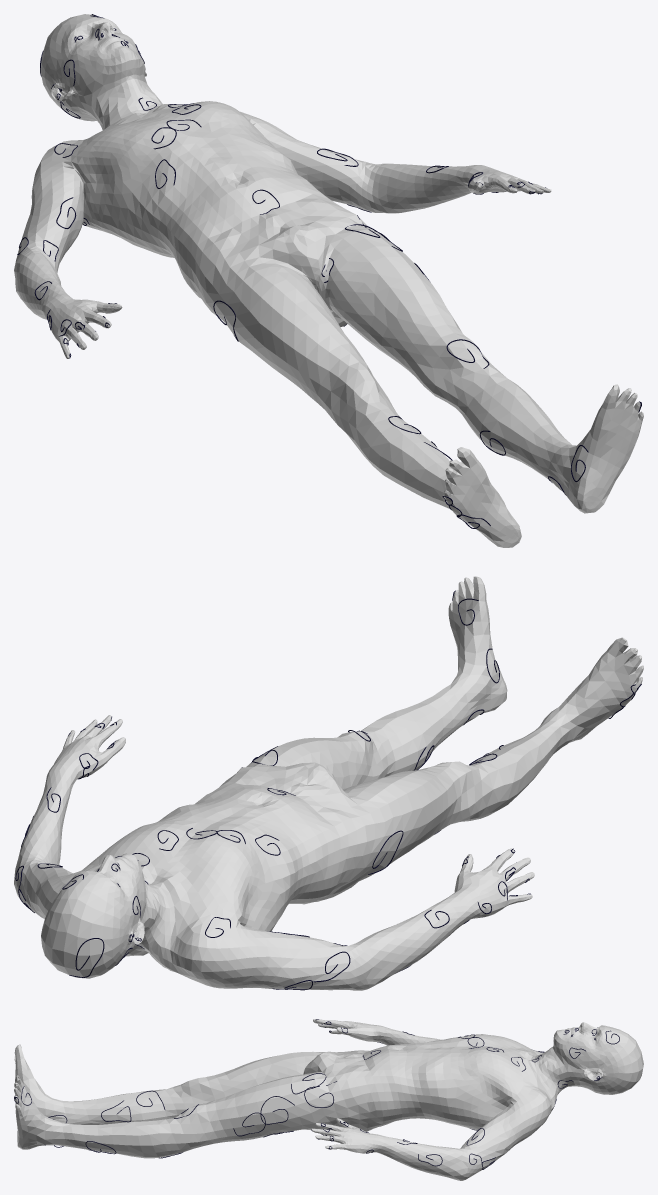
The model's file is body_spiral.glb.
The picture shows the model from 3 angles, top to bottom: view 1: azimuth 30°, elevation 25°; view 2: azimuth 150°, elevation 25°; view 3: azimuth 270°, elevation 25°; orthographic projection. The views are drawn at different scales.
Parts seen in each view (by area): view 1: imagetostl_mesh0; view 2: imagetostl_mesh0; view 3: imagetostl_mesh0.
Boxes of the visible parts, box(x1,y1,x2,y2) form: imagetostl_mesh0: box(14, 14, 643, 547); imagetostl_mesh0: box(14, 576, 643, 990); imagetostl_mesh0: box(14, 1019, 643, 1180).
Bounding box in the file's own units: 1 × 0.3865 × 1.78.
